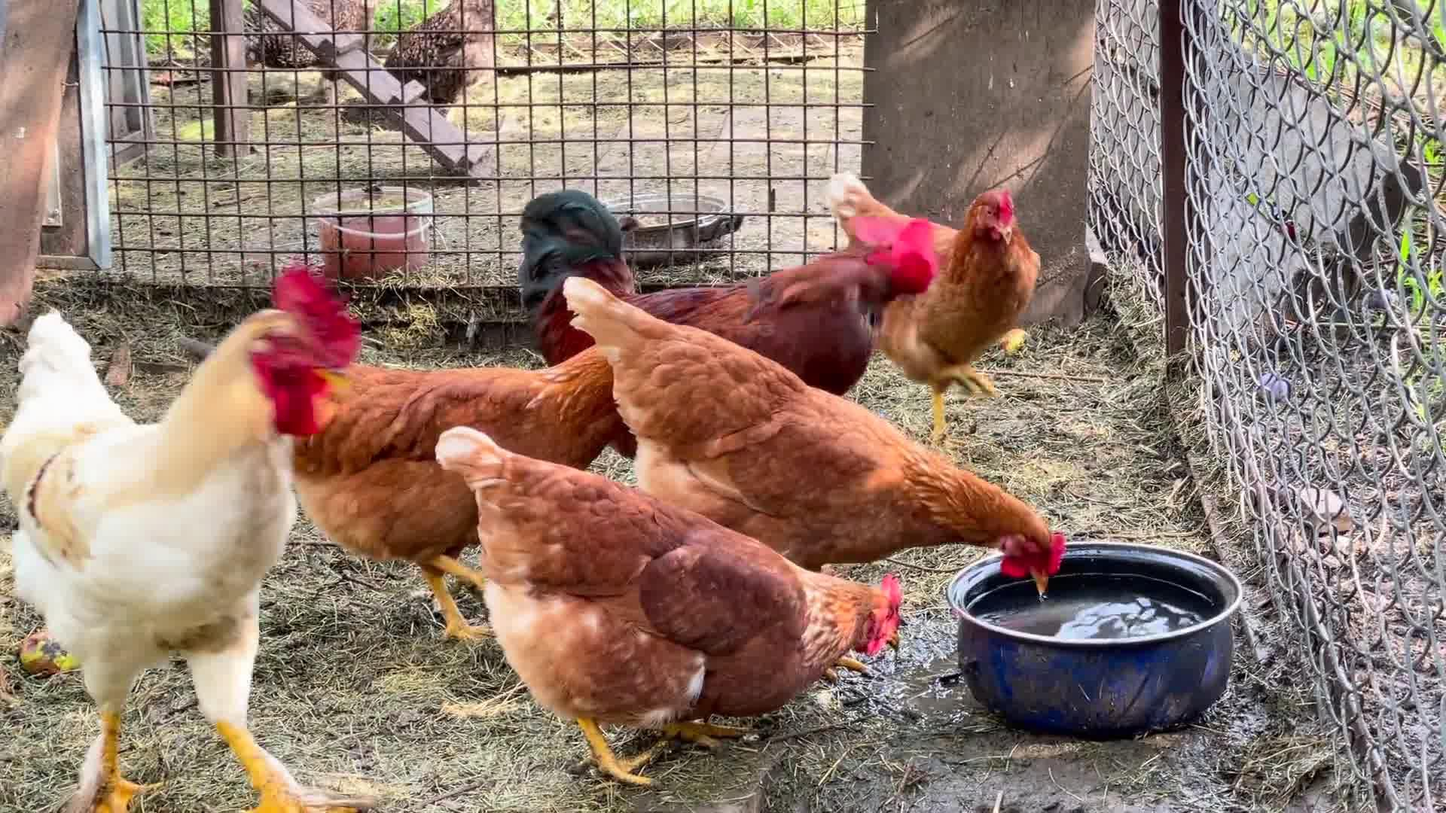Normal: (12, 269, 358, 813), (561, 273, 1072, 627), (443, 429, 902, 788), (518, 179, 920, 422), (328, 347, 612, 654), (825, 164, 1058, 449)
